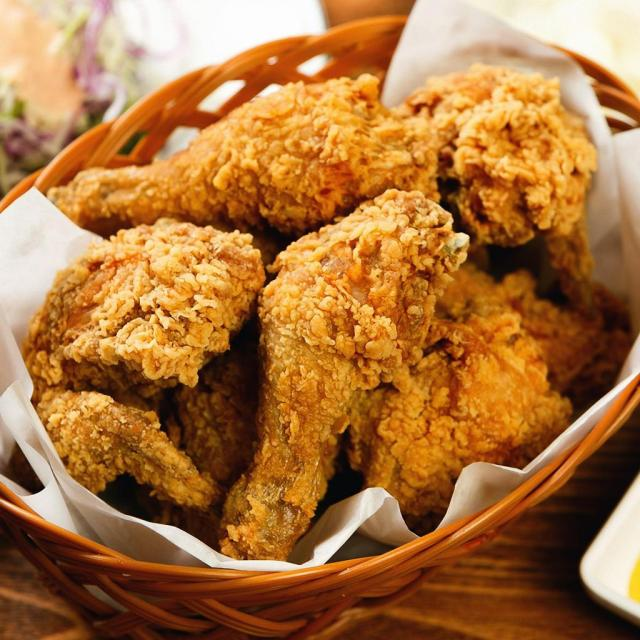Frango: (223, 189, 472, 559), (28, 226, 270, 529), (353, 247, 572, 524), (53, 80, 380, 232), (331, 62, 597, 239)
